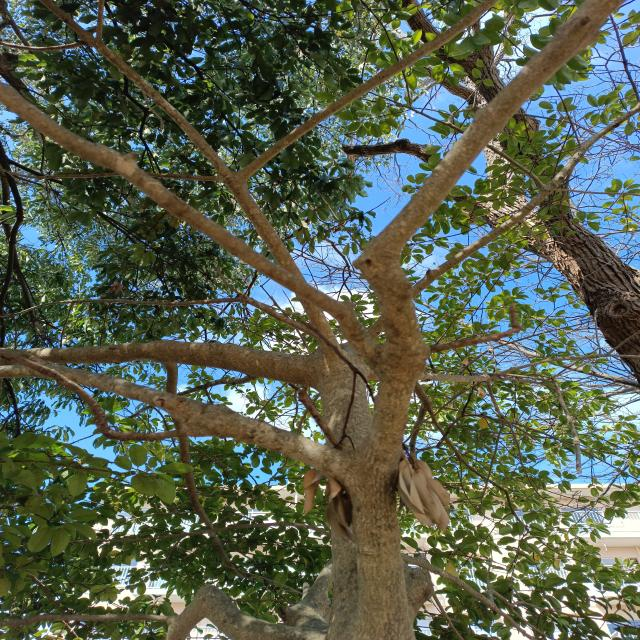Branch: (355, 0, 627, 460), (0, 361, 356, 491), (1, 341, 315, 389)
Twig: (0, 80, 379, 369), (37, 0, 339, 351), (236, 0, 498, 181), (413, 105, 639, 296), (0, 350, 190, 441), (0, 294, 315, 338), (1, 169, 219, 180)
